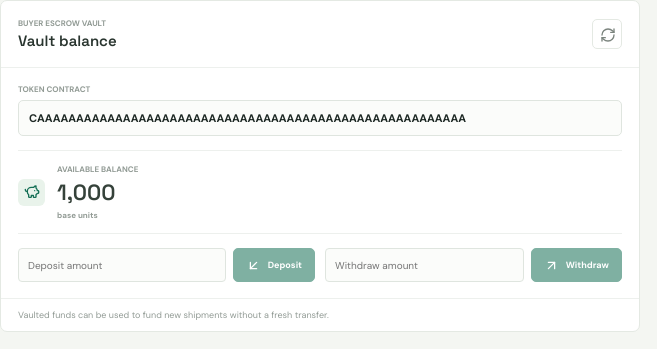
Test case: VaultPage › updates the balance immediately after a deposit and a withdrawal
The image size is (657, 349).
Check: the text with test id "vault-balance" reads "1,000", box [57,178,115,206]
Type "250" into the field labelled "Deposit amount" at (122, 265), box [18,248,226,282]
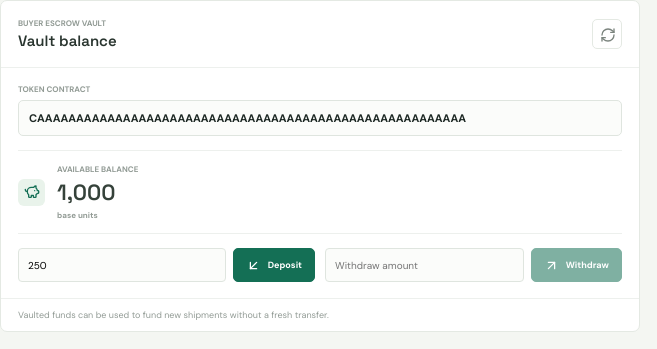
Click the button "Deposit" at (274, 265), box [233,248,315,282]
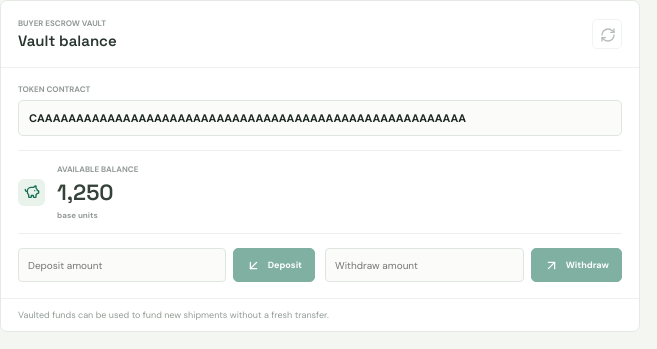
Check: the text with test id "vault-balance" reads "1,250", box [57,178,114,206]
Type "50" into the field labelled "Withdraw amount" at (424, 265), box [325,248,524,282]
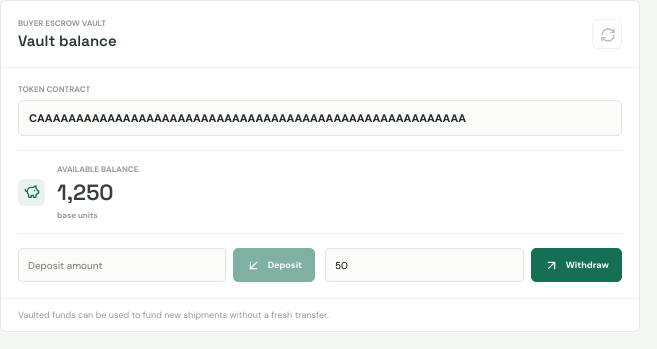
Click the button "Withdraw" at (576, 265), box [531,248,622,282]
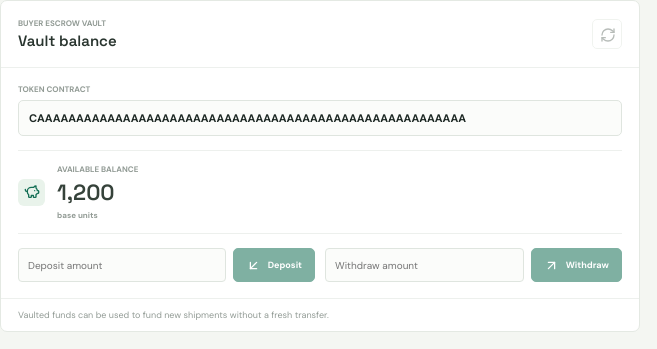
Check: the text with test id "vault-balance" reads "1,200", box [57,178,115,206]
